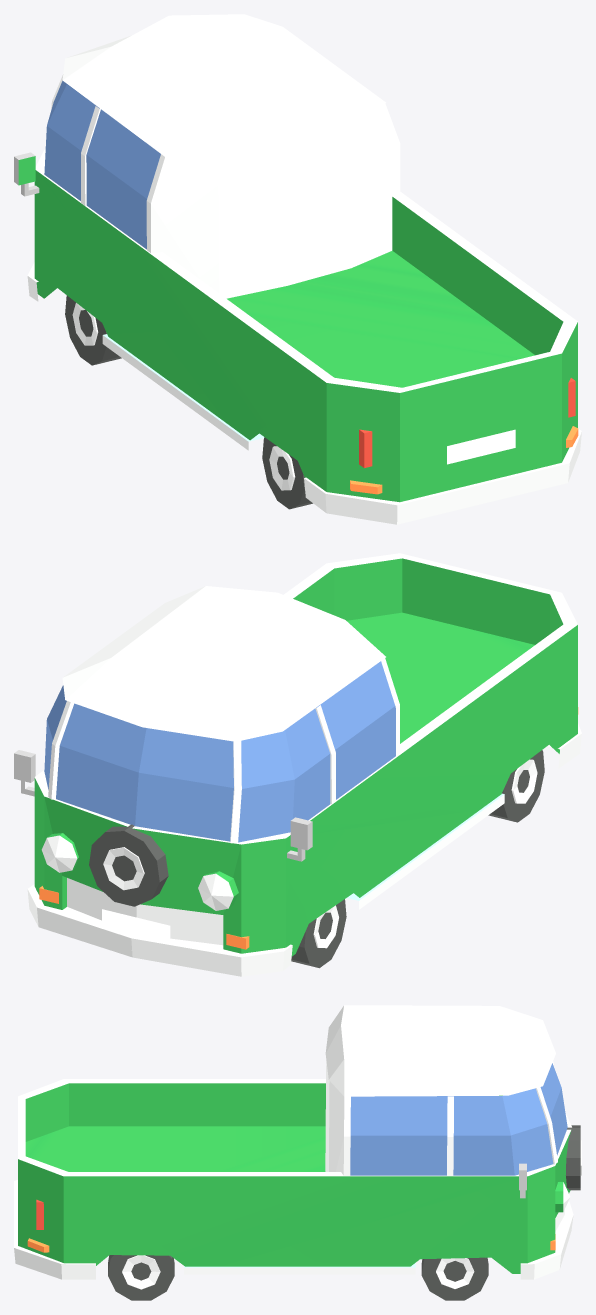
File: transport_bus.008.glb
The picture shows the model from 3 angles, top to bottom: view 1: azimuth 30°, elevation 25°; view 2: azimuth 150°, elevation 25°; view 3: azimuth 270°, elevation 25°; orthographic projection. The views are drawn at different scales.
Parts seen in each view (by area): view 1: transport_bus.008(Clone); view 2: transport_bus.008(Clone); view 3: transport_bus.008(Clone).
Part boxes in pixels (x1,y1,x2,y2): transport_bus.008(Clone): [14, 14, 581, 524]; transport_bus.008(Clone): [14, 553, 581, 976]; transport_bus.008(Clone): [14, 1005, 581, 1300].
Bounding box in the file's own units: 1.7 × 1.6 × 3.58.
Materials: 1 (1 with a texture image).
